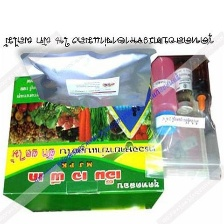book: (0, 73, 170, 215)
insecticide: (14, 47, 157, 109), (150, 56, 179, 138), (174, 55, 197, 115), (192, 54, 210, 110)
